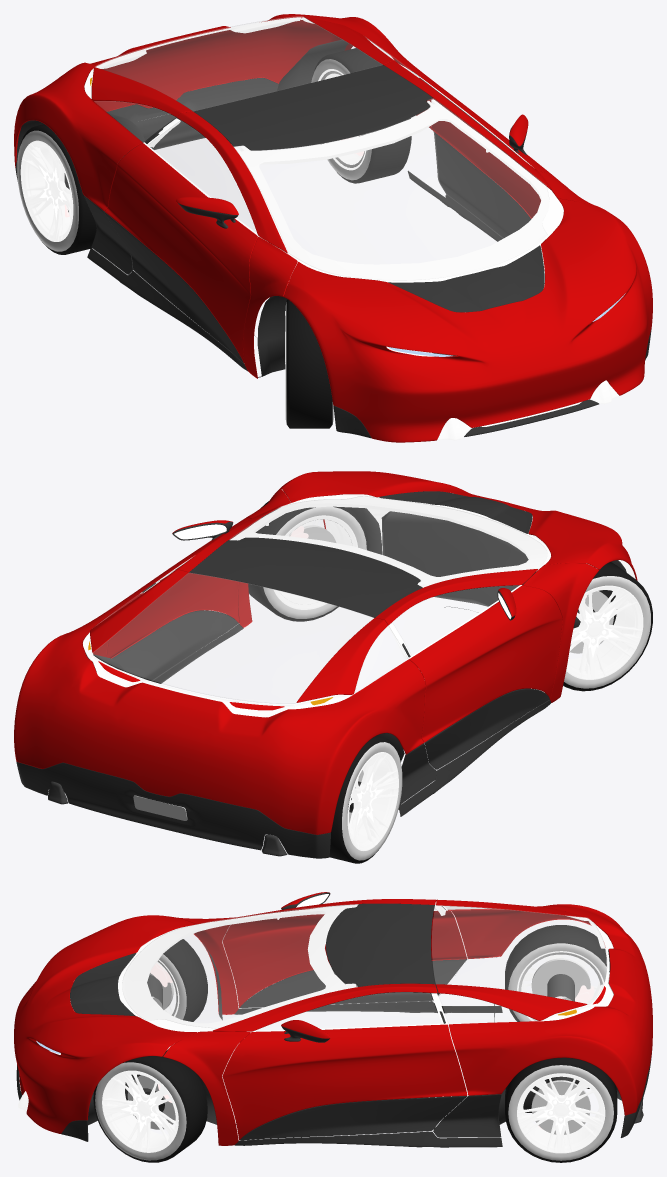
The model's file is car-concept.glb.
The picture shows the model from 3 angles, top to bottom: view 1: azimuth 30°, elevation 25°; view 2: azimuth 150°, elevation 25°; view 3: azimuth 270°, elevation 25°; orthographic projection. The views are drawn at different scales.
Visible parts, largest first — view 1: BodyHood, BodyWindshield, BodyRearPanelsColor1, BodyRearwindow, BodyDoorRColor1, BodyWindshieldGasket, BodyRoofPanel, BodyPanelsColor2, BodyPillars, BodyHoodTopgrill, WheelFrontR, BodyDoorLColor2 (+11 smaller); view 2: BodyRearPanelsColor1, BodyRearwindow, BodyWindshield, BodyPanelsColor2, BodyDoorRColor1, BodyRoofPanel, BodyHood, BodyPillars, Engine, BodyWindshieldGasket, WheelFrontRRim, BodyDoorLColor1 (+13 smaller); view 3: BodyRearPanelsColor1, BodyWindshield, BodyDoorLColor1, BodyHood, BodyRearwindow, BodyPillars, BodyRoofPanel, BodyPanelsColor2, BodyDoorRColor1, BodyWindshieldGasket, BodyDoorLColor2, WheelFrontL (+17 smaller).
Part boxes in pixels (bbox=[...]): BodyHood: bbox=[283, 198, 652, 442]; BodyWindshield: bbox=[234, 98, 549, 280]; BodyRearPanelsColor1: bbox=[14, 14, 434, 210]; BodyRearwindow: bbox=[95, 16, 382, 110]; BodyDoorRColor1: bbox=[104, 143, 257, 362]; BodyWindshieldGasket: bbox=[234, 99, 563, 282]; BodyRoofPanel: bbox=[193, 65, 432, 150]; BodyPanelsColor2: bbox=[15, 77, 651, 438]; BodyPillars: bbox=[176, 61, 598, 378]; BodyHoodTopgrill: bbox=[388, 245, 544, 312]; WheelFrontR: bbox=[285, 299, 333, 428]; BodyDoorLColor2: bbox=[434, 132, 531, 238]; BodyRearPanelsColor1: bbox=[14, 569, 425, 834]; BodyRearwindow: bbox=[92, 573, 373, 703]; BodyWindshield: bbox=[229, 496, 547, 587]; BodyPanelsColor2: bbox=[16, 624, 550, 858]; BodyDoorRColor1: bbox=[409, 585, 562, 742]; BodyRoofPanel: bbox=[189, 537, 422, 617]; BodyHood: bbox=[279, 471, 637, 580]; BodyPillars: bbox=[175, 489, 599, 702]; Engine: bbox=[381, 511, 528, 606]; BodyWindshieldGasket: bbox=[230, 495, 550, 587]; WheelFrontRRim: bbox=[566, 585, 643, 679]; BodyDoorLColor1: bbox=[106, 517, 250, 658]; BodyRearPanelsColor1: bbox=[436, 899, 652, 1115]; BodyWindshield: bbox=[122, 904, 357, 1028]; BodyDoorLColor1: bbox=[222, 1024, 467, 1139]; BodyHood: bbox=[14, 915, 196, 1133]; BodyRearwindow: bbox=[432, 905, 606, 1003]; BodyPillars: bbox=[163, 899, 437, 1145]; BodyRoofPanel: bbox=[326, 903, 434, 986]; BodyPanelsColor2: bbox=[16, 957, 652, 1147]; BodyDoorRColor1: bbox=[222, 909, 467, 1007]; BodyWindshieldGasket: bbox=[118, 905, 357, 1032]; BodyDoorLColor2: bbox=[240, 1096, 467, 1140]; WheelFrontL: bbox=[93, 1050, 207, 1162].
Size of the model in its own units: 2.54 by 1.15 by 4.36.
